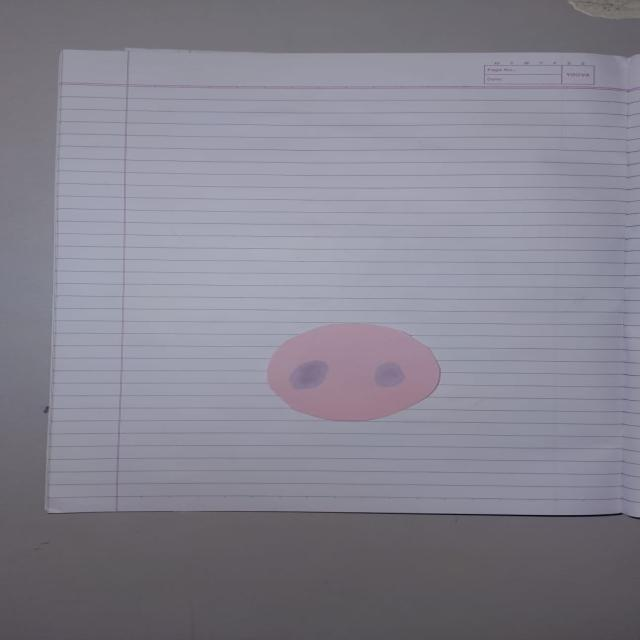BlueColor: (290, 361, 329, 390), (375, 362, 406, 388)
